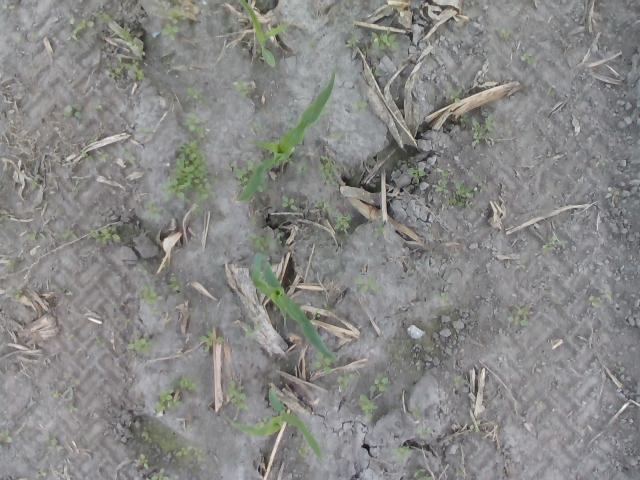Maize: (238, 70, 336, 202), (250, 251, 339, 363), (224, 386, 324, 464), (238, 0, 290, 68)
Weeds: (160, 139, 218, 202), (443, 174, 485, 211), (227, 161, 264, 194), (460, 112, 496, 144), (106, 55, 146, 80), (116, 26, 146, 56), (68, 18, 94, 46), (226, 381, 250, 411), (318, 155, 340, 187), (154, 388, 182, 413), (86, 224, 121, 244), (372, 28, 399, 50), (356, 393, 378, 420), (127, 334, 156, 354), (198, 330, 224, 352), (249, 233, 282, 250), (182, 113, 204, 138), (506, 304, 528, 328), (138, 284, 162, 305), (313, 350, 332, 374), (170, 374, 198, 390), (356, 277, 380, 295), (542, 235, 566, 253), (369, 372, 390, 392), (233, 78, 253, 98), (336, 368, 354, 390), (144, 201, 164, 220), (175, 445, 202, 459), (392, 445, 411, 464), (168, 5, 187, 24), (406, 167, 426, 184), (161, 22, 179, 40), (243, 322, 260, 341), (187, 87, 204, 106), (64, 103, 82, 120), (352, 96, 368, 115), (392, 154, 413, 168), (280, 194, 298, 210), (334, 214, 351, 230), (446, 86, 462, 103), (314, 198, 333, 212), (414, 467, 434, 480), (150, 467, 170, 480), (43, 434, 59, 450), (167, 276, 184, 291), (431, 179, 448, 193), (0, 428, 12, 447), (122, 149, 136, 164), (296, 160, 309, 176), (62, 228, 78, 240), (374, 223, 386, 238), (138, 453, 148, 470), (96, 12, 113, 22), (589, 294, 601, 308), (418, 426, 432, 438), (254, 416, 268, 428), (346, 36, 360, 48), (520, 52, 534, 64), (308, 34, 318, 50), (137, 262, 149, 275), (190, 202, 203, 214), (81, 149, 92, 163), (137, 125, 151, 136), (454, 376, 466, 388), (297, 445, 308, 458), (96, 150, 107, 162), (95, 336, 106, 348), (470, 420, 480, 433), (31, 174, 39, 190), (436, 168, 450, 177), (437, 292, 449, 302), (608, 186, 620, 196), (515, 258, 527, 268), (594, 159, 608, 167), (26, 231, 38, 240), (163, 56, 175, 65), (502, 28, 512, 38), (150, 306, 160, 316), (252, 120, 261, 131), (96, 98, 104, 110), (412, 406, 421, 416), (52, 390, 62, 399), (13, 288, 22, 298), (68, 403, 78, 412), (2, 4, 16, 10), (372, 69, 381, 78), (184, 424, 193, 433), (331, 132, 344, 138), (547, 87, 555, 96), (72, 185, 80, 194), (36, 471, 48, 477), (605, 290, 612, 300), (312, 311, 320, 319), (323, 301, 330, 310), (0, 214, 9, 220), (90, 136, 98, 142), (124, 318, 132, 324), (284, 157, 293, 162), (361, 48, 367, 55), (454, 324, 459, 332), (394, 95, 400, 101), (253, 218, 259, 223)
